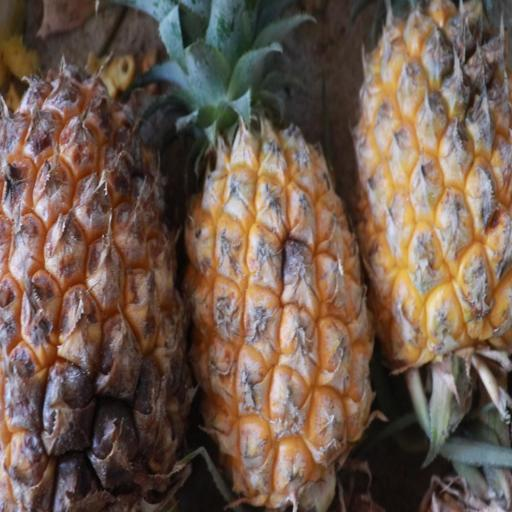Pineapple - v8 v1: (178, 50, 379, 512), (0, 59, 202, 512), (353, 0, 511, 384)
